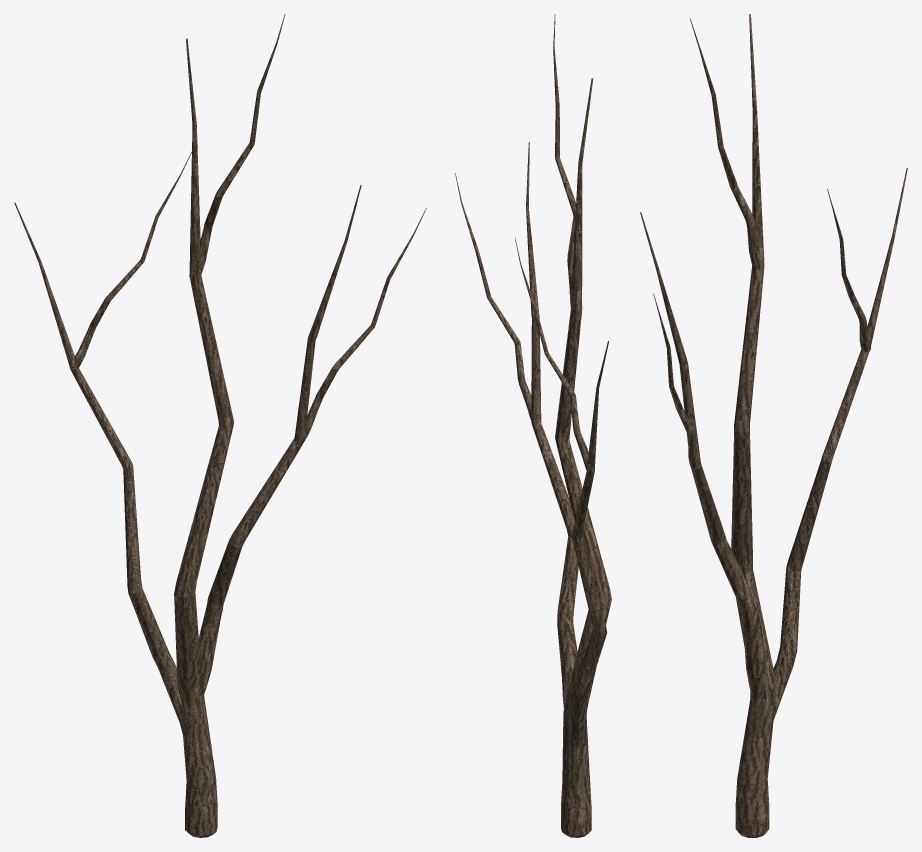
File: tree.fbx
The picture shows the model from 3 angles, left to right: view 1: azimuth 30°, elevation 25°; view 2: azimuth 150°, elevation 25°; view 3: azimuth 270°, elevation 25°; orthographic projection. The views are drawn at different scales.
Parts seen in each view (by area): view 1: tree2; view 2: tree2; view 3: tree2.
Part boxes in pixels (x1,y1,x2,y2): tree2: (14, 14, 426, 837); tree2: (455, 14, 611, 837); tree2: (640, 14, 907, 837).
Size of the model in its own units: 9.01 by 24.82 by 7.16.
